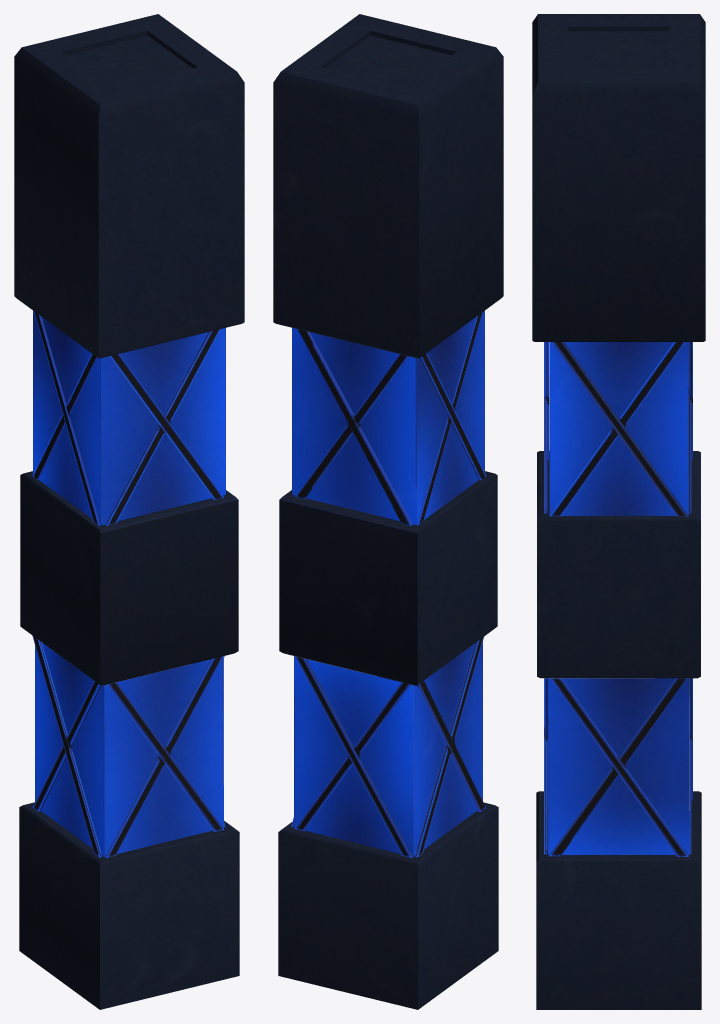
The model's file is predio.glb.
3 views of the same model, side by side, from view 1: azimuth 30°, elevation 25°; view 2: azimuth 150°, elevation 25°; view 3: azimuth 270°, elevation 25° (orthographic). The views are drawn at different scales.
Visible parts, largest first — view 1: SM_Rooftop_Base_HD_1_JFG_low, SM_Rooftop_Deco_HD_1_JFG_low; view 2: SM_Rooftop_Base_HD_1_JFG_low, SM_Rooftop_Deco_HD_1_JFG_low; view 3: SM_Rooftop_Base_HD_1_JFG_low, SM_Rooftop_Deco_HD_1_JFG_low.
Boxes of the visible parts, x1,y1,x2,y2 form: SM_Rooftop_Base_HD_1_JFG_low: (14,14,244,1009); SM_Rooftop_Deco_HD_1_JFG_low: (32,311,225,857); SM_Rooftop_Base_HD_1_JFG_low: (273,14,503,1009); SM_Rooftop_Deco_HD_1_JFG_low: (290,312,486,857); SM_Rooftop_Base_HD_1_JFG_low: (532,14,705,1009); SM_Rooftop_Deco_HD_1_JFG_low: (544,342,692,856).
Bounding box in the file's own units: 783 × 4628 × 783.
Materials: 1 (1 with a texture image).
